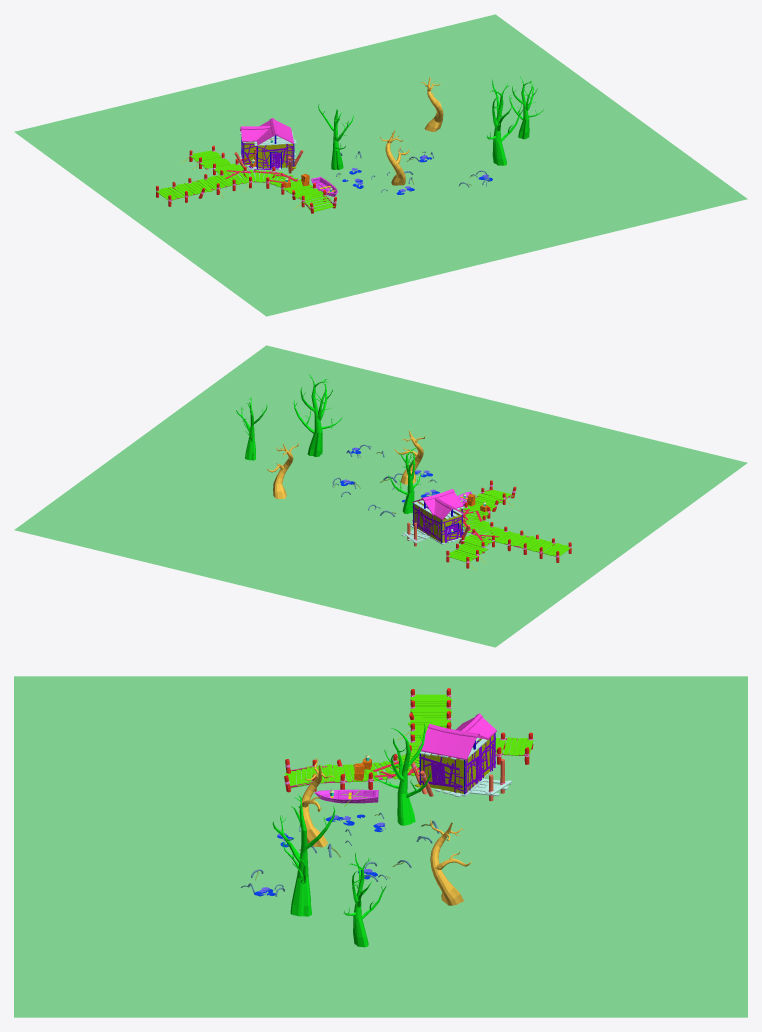
The model's file is Swamp_Scene.fbx.
3 views of the same model, one above another, from view 1: azimuth 30°, elevation 25°; view 2: azimuth 150°, elevation 25°; view 3: azimuth 270°, elevation 25° (orthographic). The views are drawn at different scales.
Visible parts, largest first — view 1: SwampWater, SwampTree.000, CabinWalls, SwampTree.001, SwampTree.002, CurveTree_A, CabinRoof_A; view 2: SwampWater, SwampTree.000, CabinWalls, SwampTree.002, CurveTree_B, SwampTree.001; view 3: SwampWater, SwampTree.000, SwampTree.002, CabinRoof_A, CabinWalls, CurveTree_B, SwampTree.001, CurveTree_A, BoatShell.
Boxes of the visible parts, box(x1,y1,x2,y2) form: SwampWater: box(14, 14, 747, 316); SwampTree.000: box(486, 79, 522, 165); CabinWalls: box(241, 137, 293, 168); SwampTree.001: box(509, 77, 543, 139); SwampTree.002: box(318, 104, 353, 169); CurveTree_A: box(380, 130, 409, 185); CabinRoof_A: box(256, 118, 294, 145); SwampWater: box(14, 345, 747, 647); SwampTree.000: box(293, 374, 342, 456); CabinWalls: box(413, 500, 461, 542); SwampTree.002: box(388, 447, 420, 513); CurveTree_B: box(267, 442, 298, 498); SwampTree.001: box(236, 397, 267, 460); SwampWater: box(14, 676, 747, 1017); SwampTree.000: box(272, 793, 335, 916); SwampTree.002: box(373, 724, 430, 825); CabinRoof_A: box(418, 723, 488, 760); CabinWalls: box(421, 735, 493, 793); CurveTree_B: box(429, 819, 471, 905); SwampTree.001: box(343, 852, 386, 947); CurveTree_A: box(299, 757, 334, 847); BoatShell: box(314, 789, 378, 803).
Bounding box in the file's own units: 6771 × 1106 × 6149.
